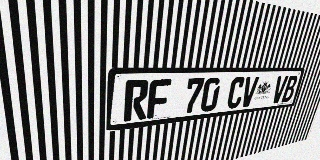0: (200, 78, 221, 112)
7: (182, 78, 205, 115)
B: (281, 75, 299, 102)
C: (226, 77, 246, 109)
F: (147, 79, 171, 119)
R: (123, 80, 149, 122)
V: (240, 76, 259, 107), (270, 76, 289, 104)
